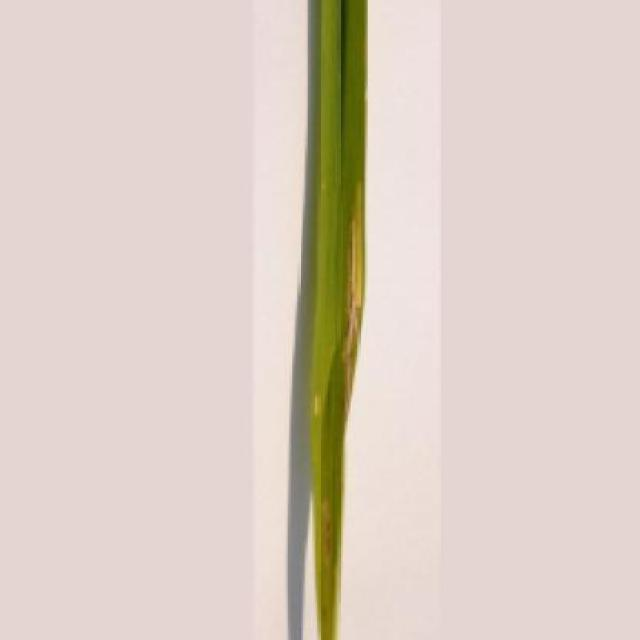Brown_Spot: (299, 0, 372, 640)
